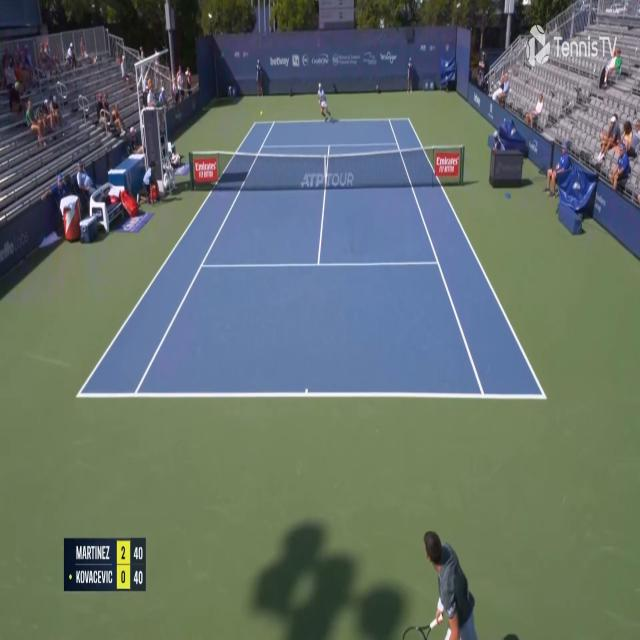tennis-player: (406, 524, 480, 639), (317, 80, 334, 122)
